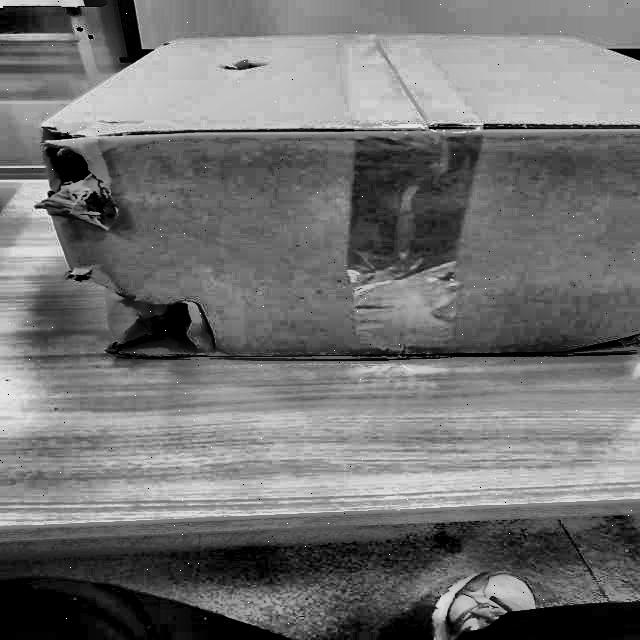box: (18, 25, 639, 368)
hole: (33, 137, 127, 217), (102, 299, 220, 356)
